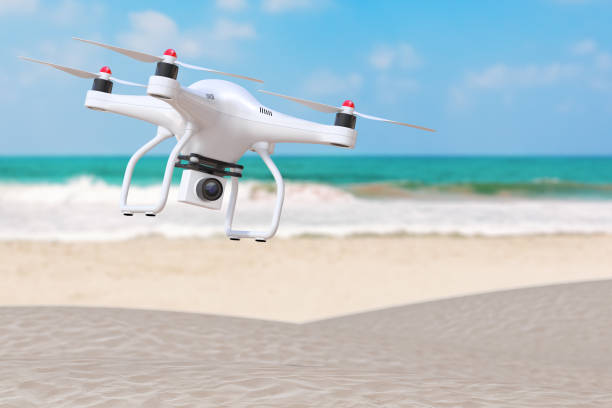Drone: (19, 32, 436, 244)
